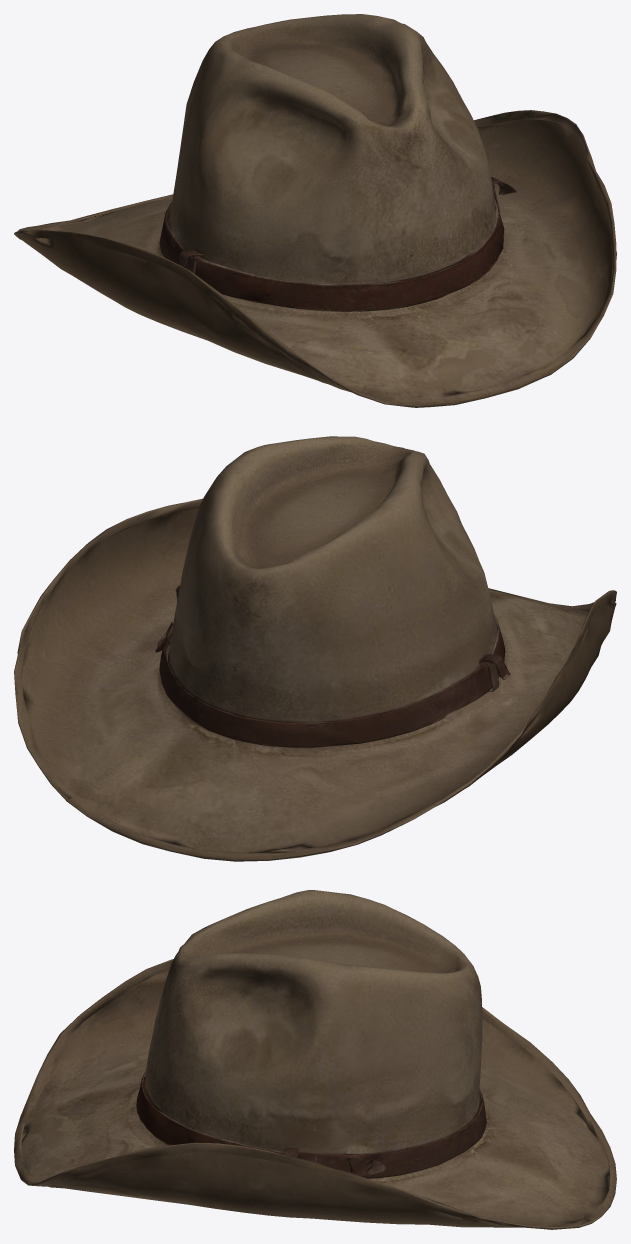
The model's file is ten-gallon.glb.
The picture shows the model from 3 angles, top to bottom: view 1: azimuth 30°, elevation 25°; view 2: azimuth 150°, elevation 25°; view 3: azimuth 270°, elevation 25°; orthographic projection. The views are drawn at different scales.
Visible parts, largest first — view 1: ten-gallon; view 2: ten-gallon; view 3: ten-gallon.
Part boxes in pixels (x1,y1,x2,y2): ten-gallon: [14, 14, 616, 407]; ten-gallon: [14, 436, 616, 861]; ten-gallon: [14, 890, 616, 1229].
Bounding box in the file's own units: 0.62 × 0.3223 × 0.6877.
1 material, 1 textured.
